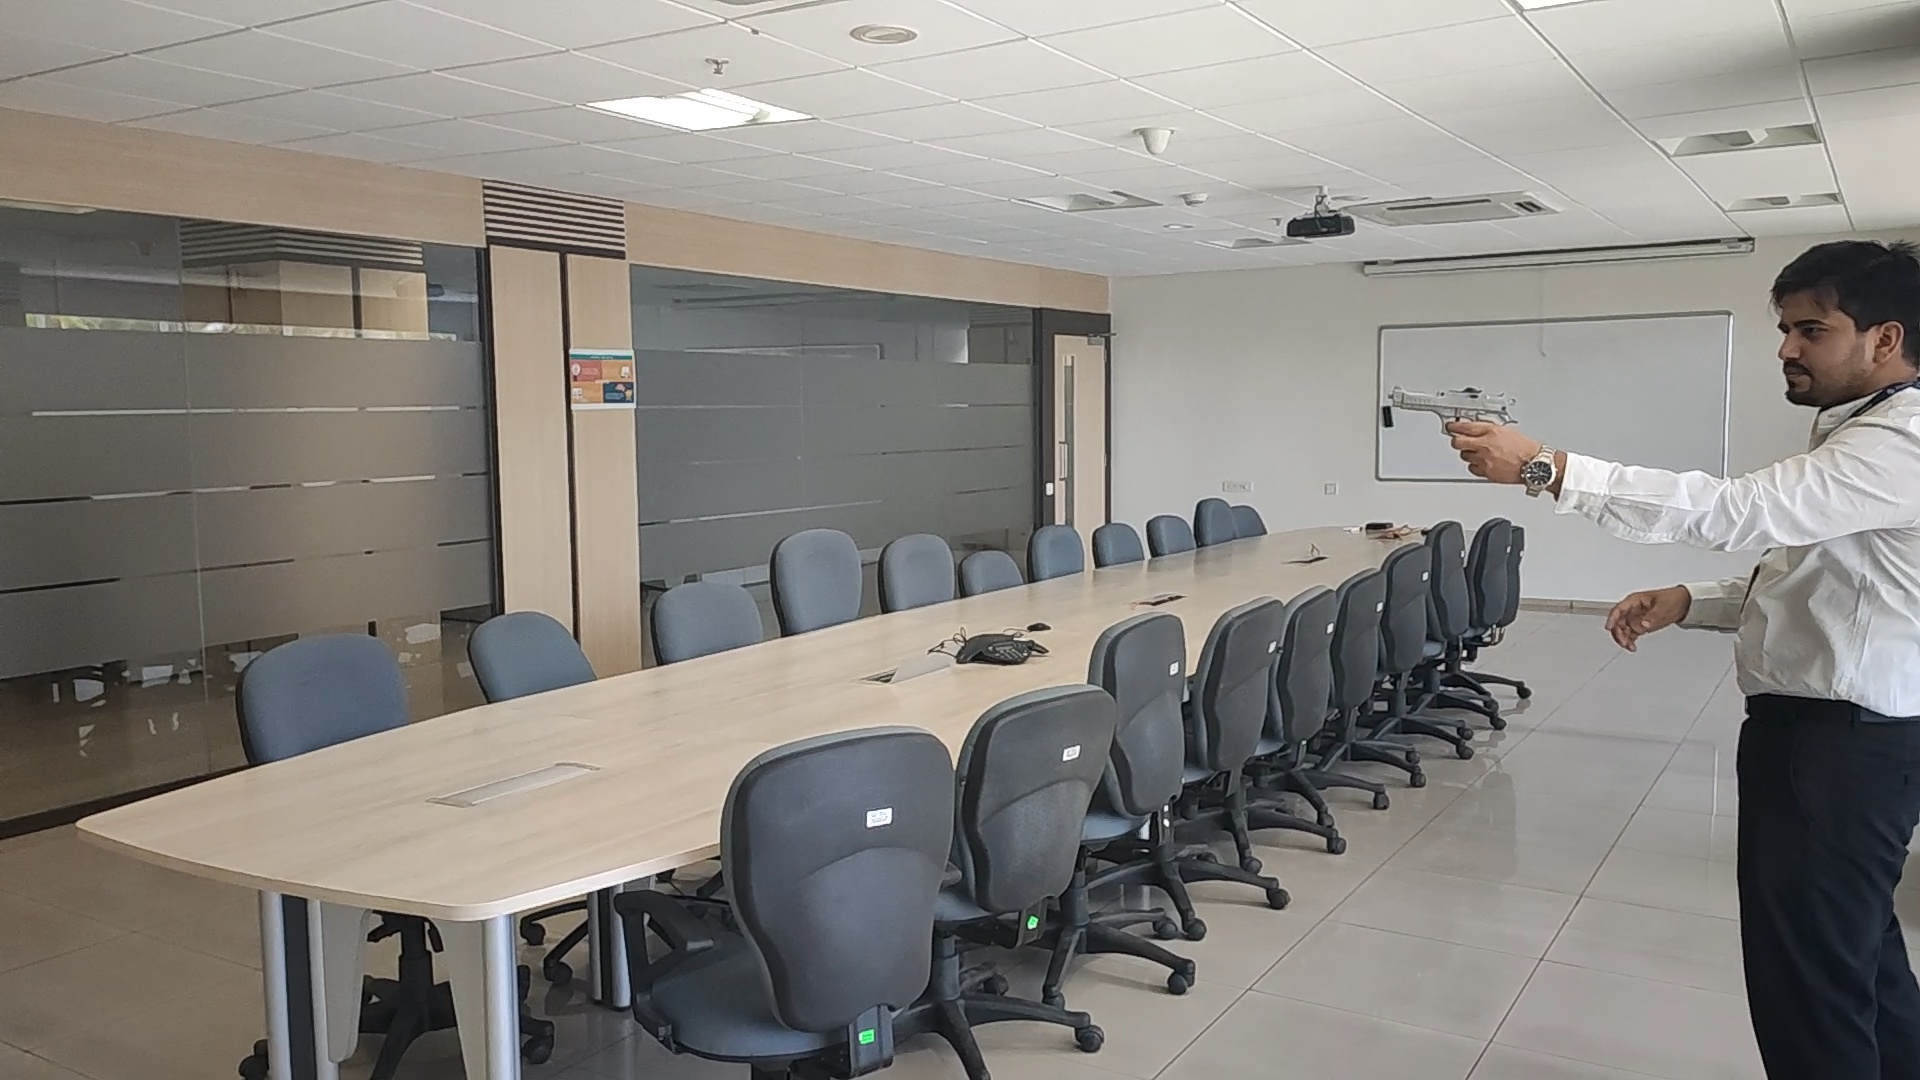gun: (1386, 381, 1519, 425)
